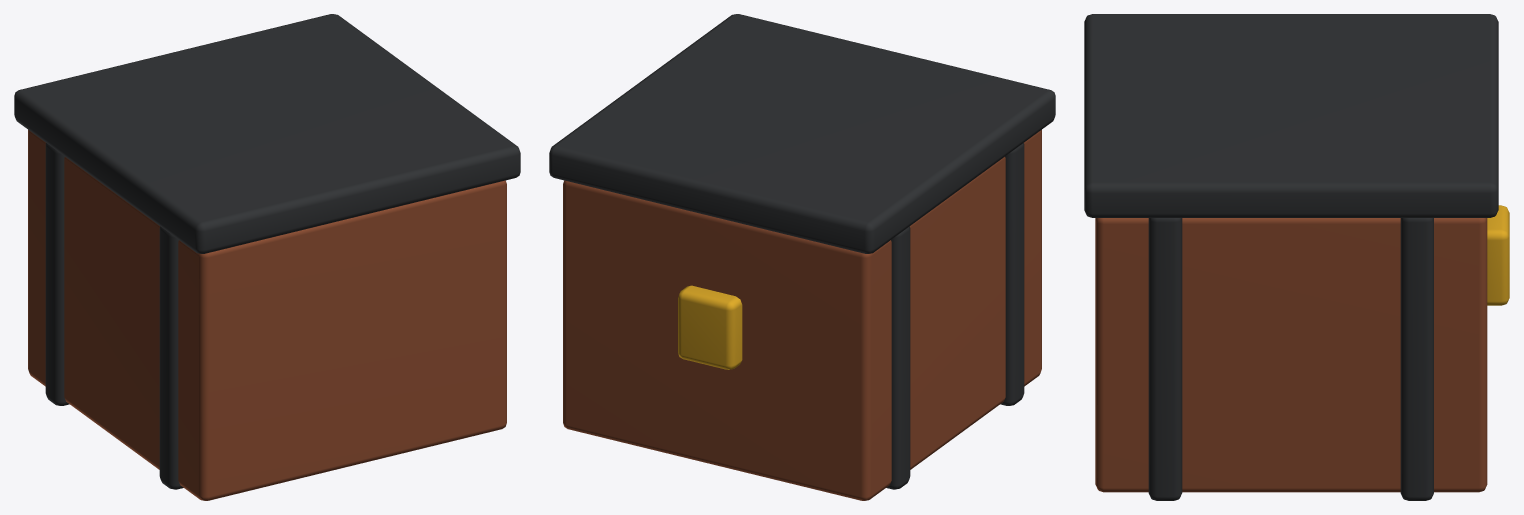
Rendered from camp-cache.glb.
3 views of the same model, side by side, from view 1: azimuth 30°, elevation 25°; view 2: azimuth 150°, elevation 25°; view 3: azimuth 270°, elevation 25° (orthographic). The views are drawn at different scales.
Visible parts, largest first — view 1: camp-cache; view 2: camp-cache; view 3: camp-cache.
Part boxes in pixels (x1=…): camp-cache: x1=14, y1=14, x2=520, y2=500; camp-cache: x1=549, y1=14, x2=1055, y2=500; camp-cache: x1=1084, y1=14, x2=1509, y2=500.
Size of the model in its own units: 1.48 by 1.26 by 1.52.
